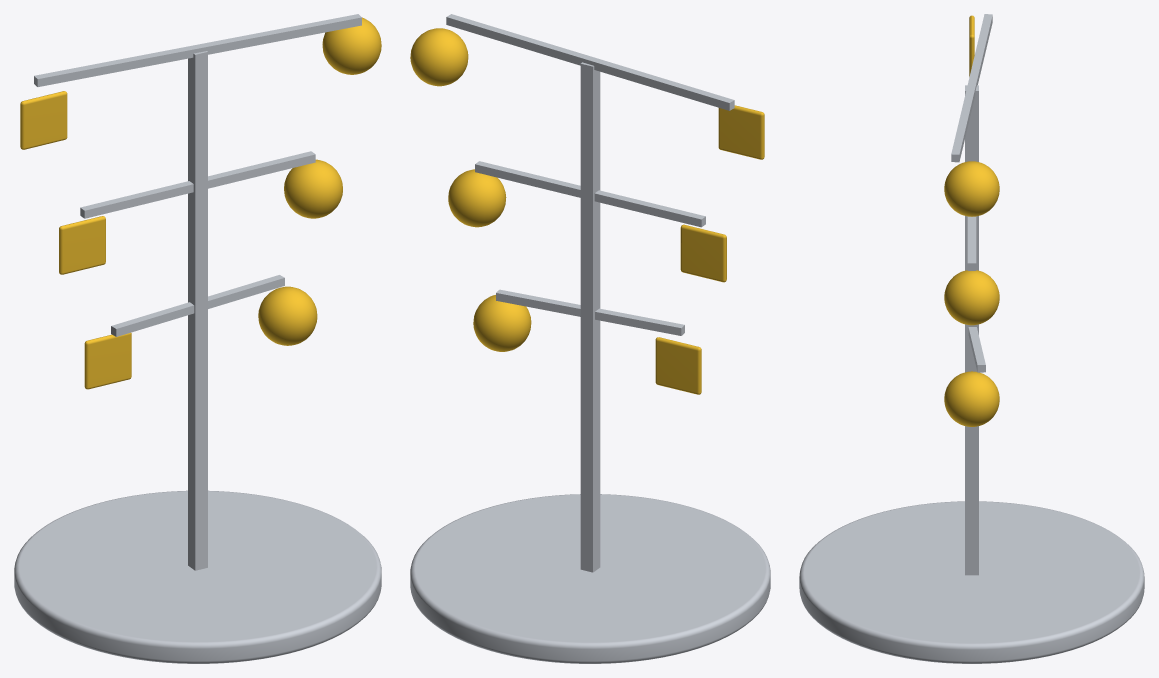
File: theme_12.glb
The picture shows the model from 3 angles, left to right: view 1: azimuth 30°, elevation 25°; view 2: azimuth 150°, elevation 25°; view 3: azimuth 270°, elevation 25°; orthographic projection. The views are drawn at different scales.
Parts seen in each view (by area): view 1: theme_12; view 2: theme_12; view 3: theme_12.
Part boxes in pixels (box(x1,y1,x2,y2)): theme_12: box(14, 14, 381, 663); theme_12: box(410, 14, 770, 663); theme_12: box(799, 14, 1144, 663).
Bounding box in the file's own units: 1.39 × 2.02 × 1.24.
